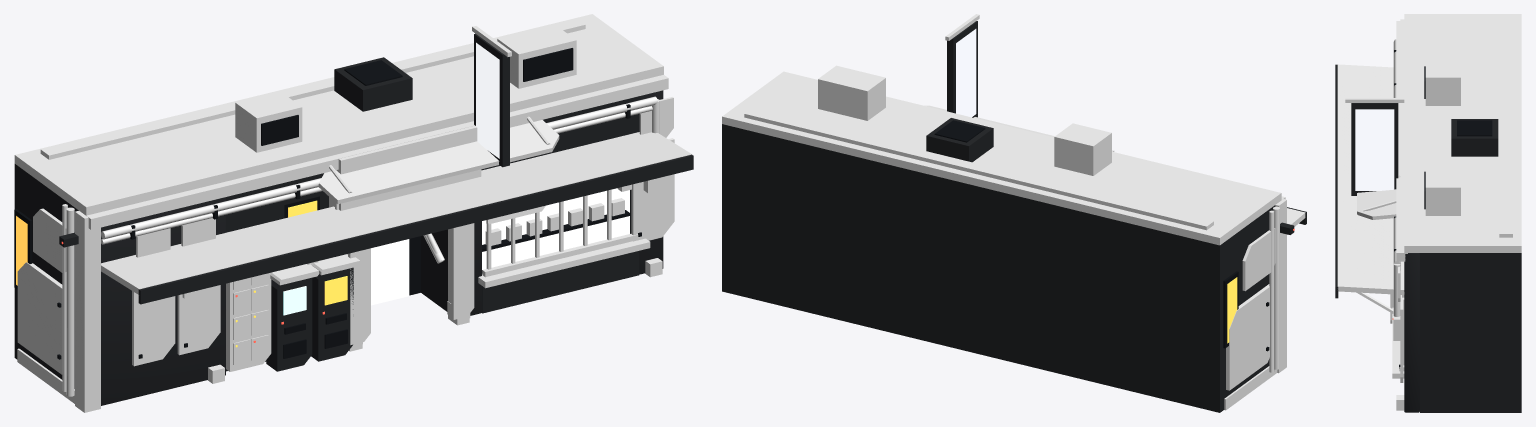
The model's file is storefront_l.gltf.
3 renders of one model, left to right at view 1: azimuth 30°, elevation 25°; view 2: azimuth 150°, elevation 25°; view 3: azimuth 270°, elevation 25°, orthographic. The views are drawn at different scales.
Visible parts, largest first — view 1: steel, graphite, olive, titanium, interior, dark, hazard, blade, glow_amber, detail_dark, detail_olive, detail_titanium; view 2: graphite, steel, titanium, blade, olive, detail_dark, hazard; view 3: steel, graphite, titanium, blade, olive, detail_dark.
Boxes of the visible parts, x1,y1,x2,y2 form: steel: [14, 14, 691, 412]; graphite: [14, 33, 693, 405]; olive: [33, 120, 674, 366]; titanium: [17, 24, 673, 374]; interior: [371, 188, 629, 305]; dark: [14, 48, 630, 358]; hazard: [17, 106, 652, 403]; blade: [476, 42, 499, 158]; glow_amber: [16, 200, 347, 305]; detail_dark: [57, 60, 641, 359]; detail_olive: [485, 198, 624, 245]; detail_titanium: [506, 203, 604, 241]; graphite: [722, 21, 1306, 412]; steel: [722, 14, 1305, 373]; titanium: [818, 65, 1269, 390]; blade: [956, 29, 976, 117]; olive: [924, 105, 1275, 291]; detail_dark: [934, 120, 1269, 351]; hazard: [1224, 366, 1277, 410]; steel: [1337, 14, 1521, 410]; graphite: [1335, 64, 1521, 412]; titanium: [1390, 59, 1460, 323]; blade: [1355, 109, 1394, 190]; olive: [1357, 189, 1403, 382]; detail_dark: [1394, 50, 1492, 368].
Size of the model in its own units: 14.67 by 6.7 by 4.76.
